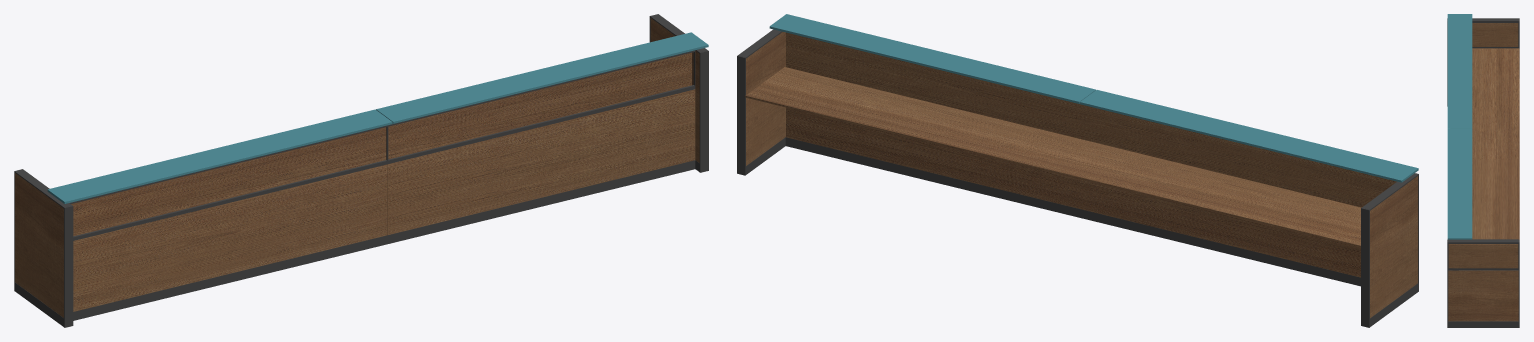
File: Counter.fbx
3 renders of one model, left to right at view 1: azimuth 30°, elevation 25°; view 2: azimuth 150°, elevation 25°; view 3: azimuth 270°, elevation 25°, orthographic. The views are drawn at different scales.
Visible parts, largest first — view 1: Counter; view 2: Counter; view 3: Counter.
Boxes of the visible parts, x1,y1,x2,y2 form: Counter: (14, 14, 708, 327); Counter: (737, 14, 1418, 327); Counter: (1447, 14, 1519, 327).
Bounding box in the file's own units: 604 × 113 × 82.
3 materials, 1 textured.
